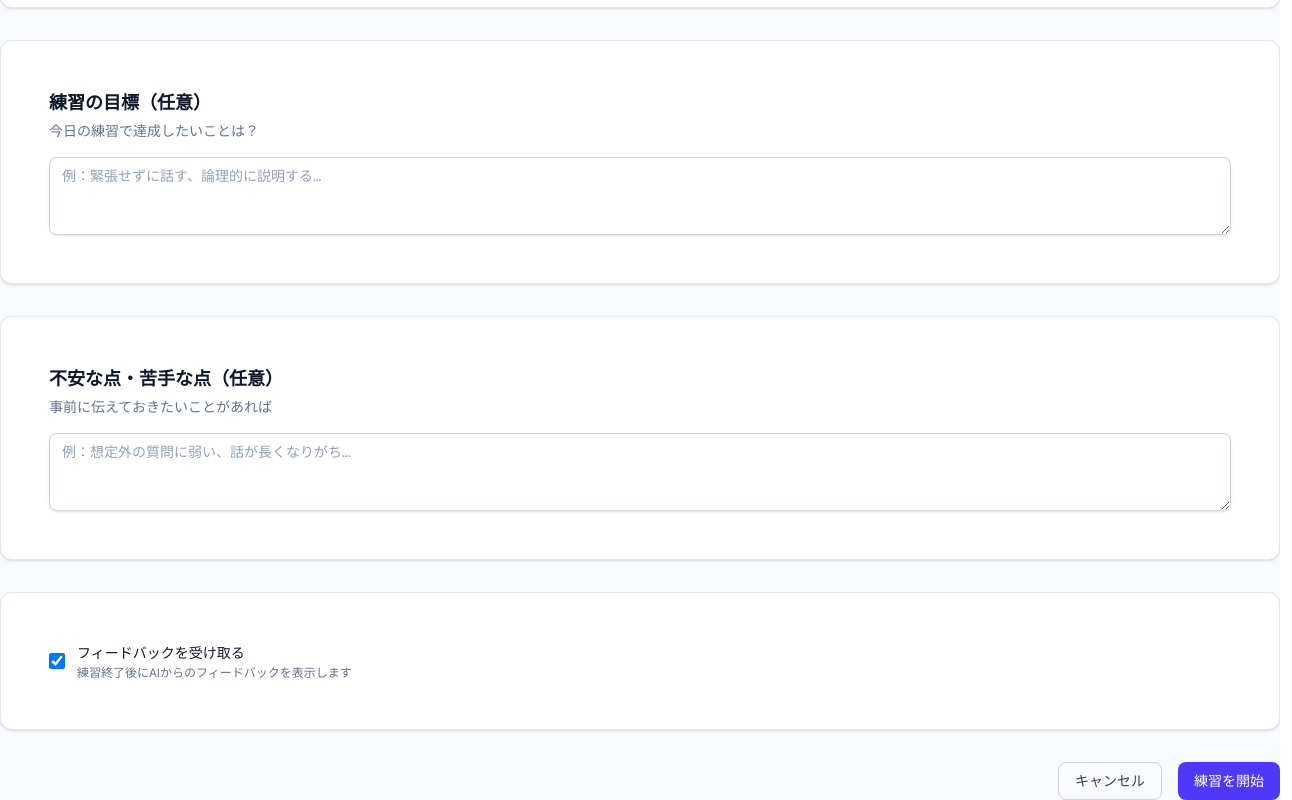
Test: SessionSetupForm › shows error on submission failure
The width and height of the screenshot is (1292, 800).
(page scrolled)
Click the button "練習を開始" at (1229,781), box [1178,762,1280,799]
(page scrolled)
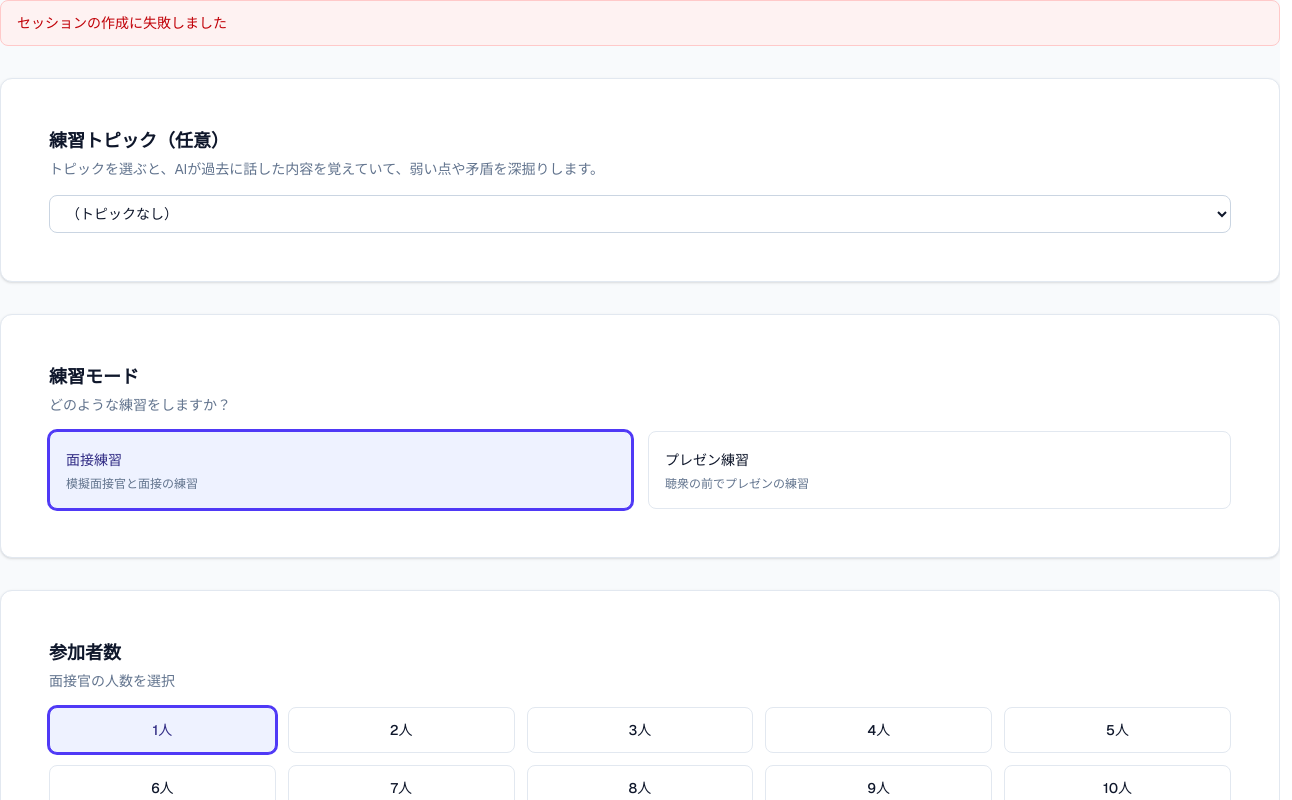
Now the text "セッションの作成に失敗しました" is shown, box [0,0,1280,46]
